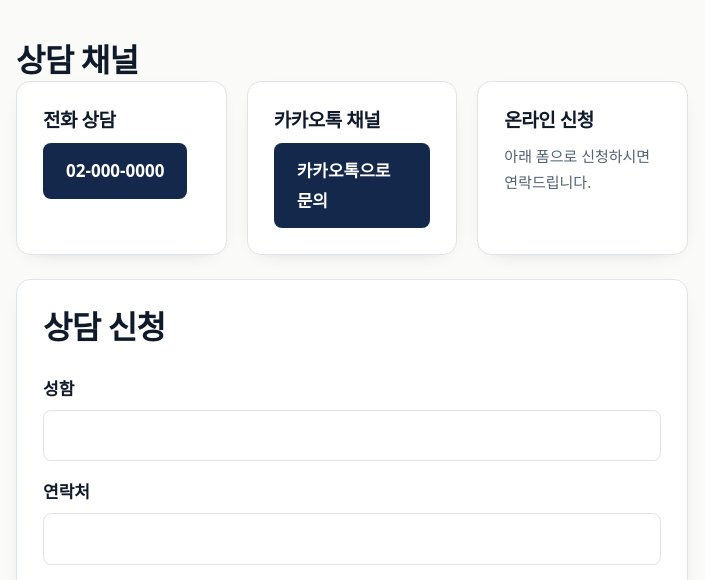
Test: 상담 폼 제출 (개업 후 상태 모킹) › 상담 분야가 진단 분야와 다르면 함께 보내기를 끄고 이유를 안내하며 보내지 않는다
Type "홍길동" into the field labelled "성함". click: point(352, 436)
box: [43,410,661,461]
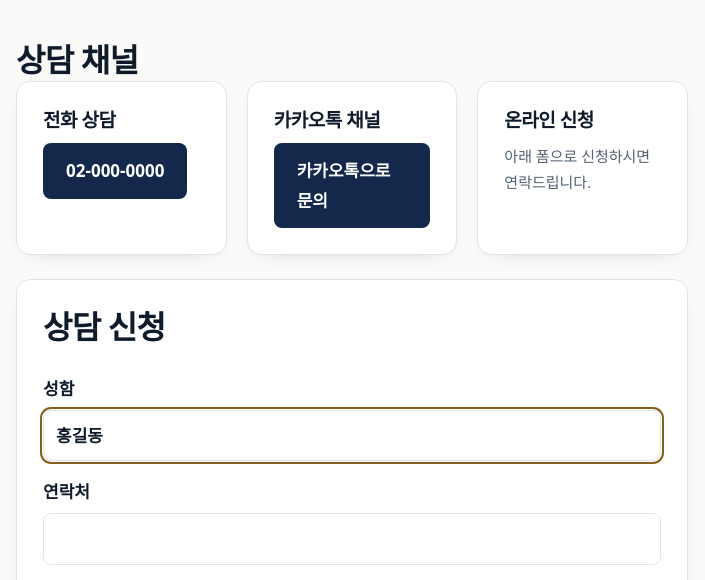
Type "01012345678" into the field labelled "연락처". click: point(352, 539)
box: [43,513,661,565]
(page scrolled)
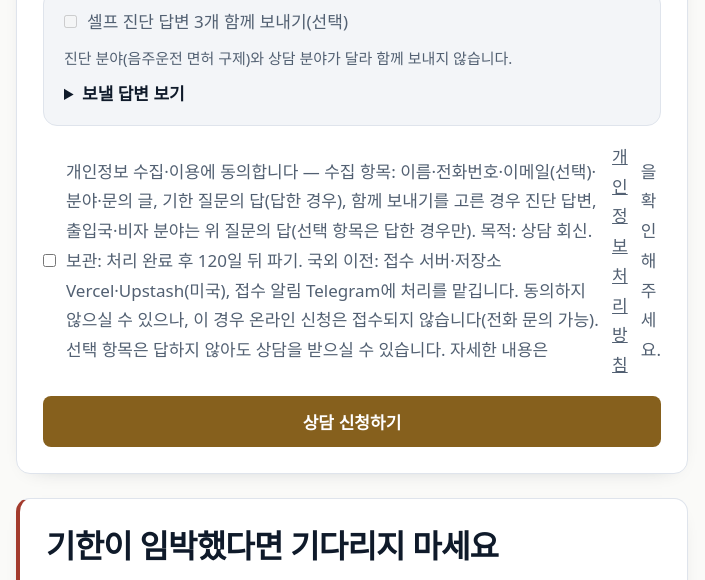
Click the checkbox labelled "개인정보 수집·이용에 동의". click: point(50, 261)
box: [43,254,56,267]
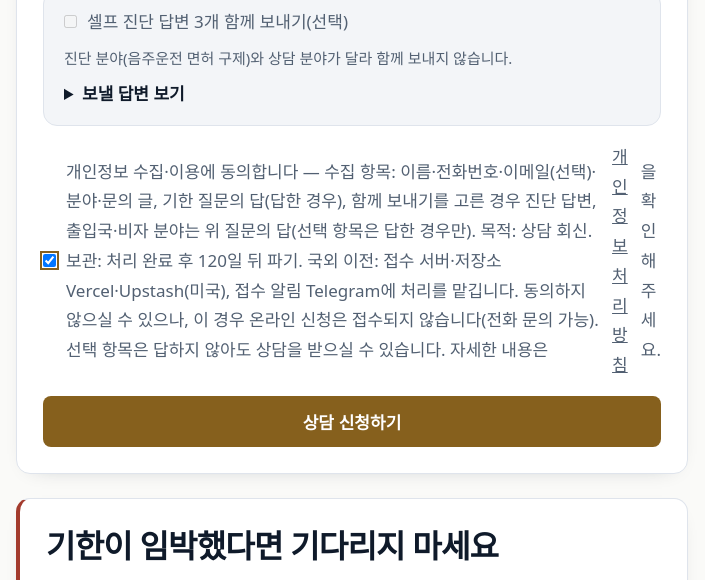
Click the button "상담 신청하기". click: point(352, 421)
box: [43,396,661,447]
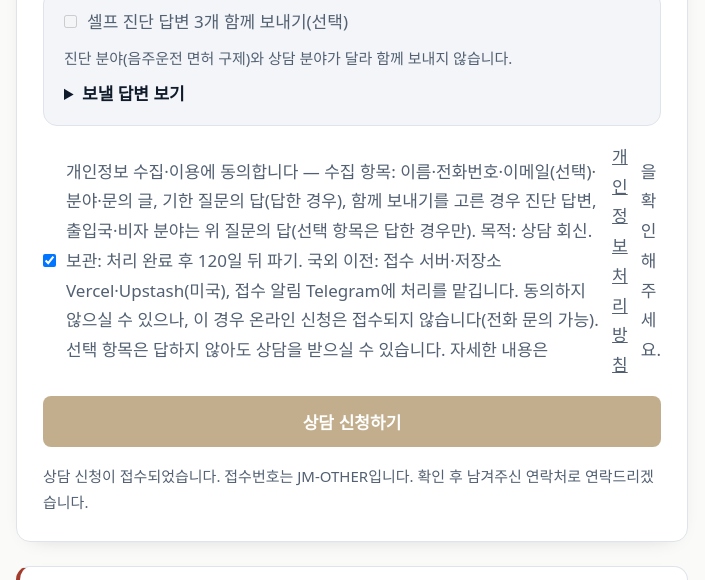
Expected: the text "JM-OTHER" is shown, [220,466,414,486]
